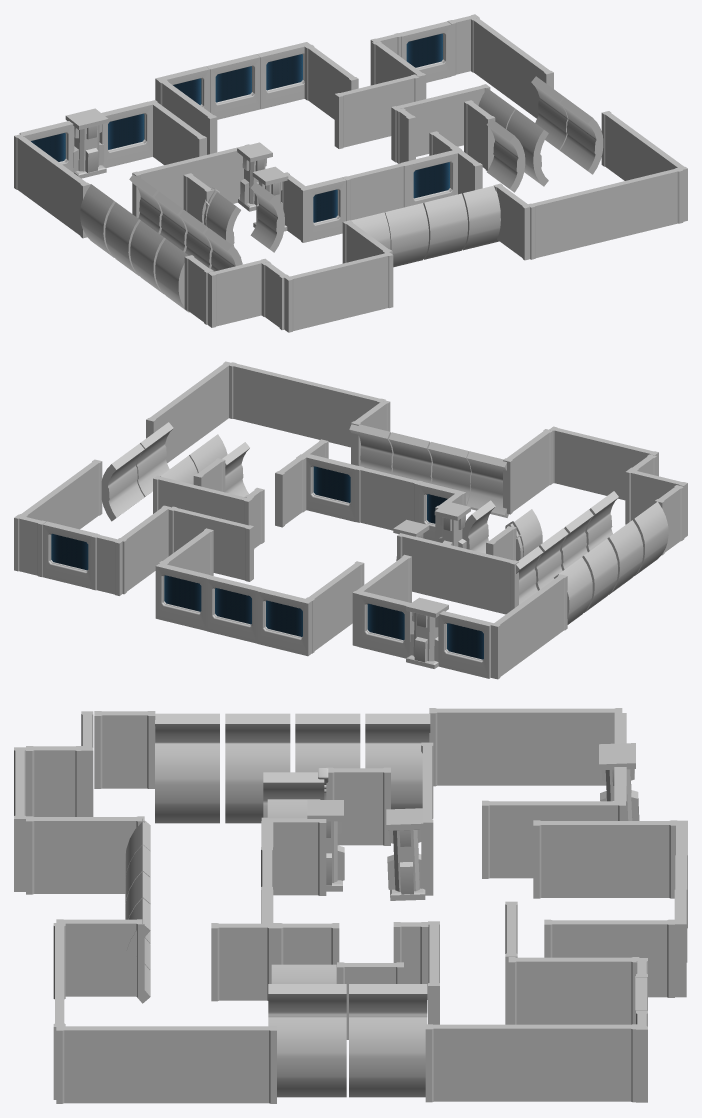
Rendered from ship_walls.fbx.
3 views of the same model, one above another, from view 1: azimuth 30°, elevation 25°; view 2: azimuth 150°, elevation 25°; view 3: azimuth 270°, elevation 25° (orthographic). The views are drawn at different scales.
Visible parts, largest first — view 1: ship_wall_linear_05, ship_wall_linear_03, ship_wall_linear_010, ship_wall_linear_08, ship_wall_linear_019, ship_wall_linear_014, ship_wall_linear_07, ship_wall_linear_011, ship_wall_linear_02, ship_wall_linear_028, ship_wall_linear_021, ship_wall_linear_020 (+49 smaller); view 2: ship_wall_linear_05, ship_wall_linear_014, ship_wall_linear_03, ship_wall_linear_08, ship_wall_linear_07, ship_wall_linear_019, ship_wall_linear_028, ship_wall_linear_010, ship_wall_linear_04, ship_wall_linear_011, ship_wall_linear_026, ship_wall_linear_018 (+47 smaller); view 3: ship_wall_linear_07, ship_wall_linear_010, ship_wall_linear_08, ship_wall_linear_026, ship_wall_linear_018, ship_wall_linear_04, ship_wall_round, ship_wall_linear_021, ship_wall_linear_020, ship_wall_linear_06, ship_wall_round1, ship_wall_round12 (+36 smaller).
Part boxes in pixels (x1=…): ship_wall_linear_05: x1=527, y1=167, x2=683, y2=259; ship_wall_linear_03: x1=284, y1=252, x2=393, y2=332; ship_wall_linear_010: x1=471, y1=17, x2=553, y2=118; ship_wall_linear_08: x1=14, y1=134, x2=90, y2=238; ship_wall_linear_019: x1=334, y1=74, x2=419, y2=148; ship_wall_linear_014: x1=132, y1=144, x2=249, y2=217; ship_wall_linear_07: x1=601, y1=111, x2=687, y2=221; ship_wall_linear_011: x1=391, y1=84, x2=490, y2=162; ship_wall_linear_02: x1=207, y1=258, x2=269, y2=327; ship_wall_linear_028: x1=342, y1=162, x2=408, y2=220; ship_wall_linear_021: x1=304, y1=44, x2=358, y2=119; ship_wall_linear_020: x1=149, y1=100, x2=206, y2=164; ship_wall_linear_05: x1=228, y1=362, x2=385, y2=447; ship_wall_linear_014: x1=397, y1=533, x2=518, y2=614; ship_wall_linear_03: x1=549, y1=426, x2=658, y2=500; ship_wall_linear_08: x1=491, y1=574, x2=567, y2=679; ship_wall_linear_07: x1=146, y1=361, x2=230, y2=463; ship_wall_linear_019: x1=168, y1=506, x2=253, y2=581; ship_wall_linear_028: x1=355, y1=466, x2=422, y2=530; ship_wall_linear_010: x1=19, y1=459, x2=102, y2=529; ship_wall_linear_04: x1=503, y1=429, x2=552, y2=514; ship_wall_linear_011: x1=153, y1=475, x2=252, y2=525; ship_wall_linear_026: x1=305, y1=561, x2=364, y2=653; ship_wall_linear_018: x1=118, y1=505, x2=170, y2=594; ship_wall_linear_07: x1=56, y1=1025, x2=276, y2=1103; ship_wall_linear_010: x1=425, y1=1024, x2=637, y2=1102; ship_wall_linear_08: x1=429, y1=708, x2=622, y2=786; ship_wall_linear_026: x1=533, y1=820, x2=677, y2=898; ship_wall_linear_018: x1=508, y1=957, x2=639, y2=1024; ship_wall_linear_04: x1=26, y1=816, x2=144, y2=894; ship_wall_round: x1=349, y1=1017, x2=427, y2=1097; ship_wall_linear_021: x1=544, y1=919, x2=674, y2=997; ship_wall_linear_020: x1=482, y1=800, x2=625, y2=878; ship_wall_linear_06: x1=56, y1=919, x2=144, y2=997; ship_wall_round1: x1=268, y1=1017, x2=346, y2=1097; ship_wall_round12: x1=155, y1=743, x2=219, y2=823.
Bounding box in the file's own units: 1902 × 230 × 1672.
